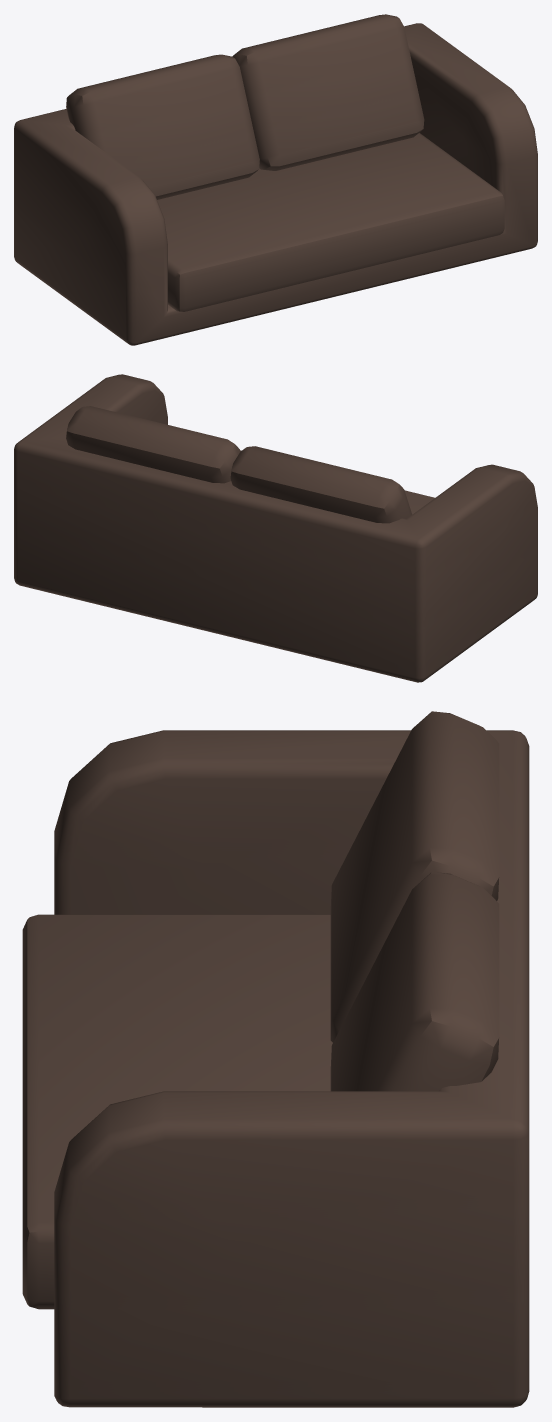
The model's file is couch.obj.
3 views of the same model, one above another, from view 1: azimuth 30°, elevation 25°; view 2: azimuth 150°, elevation 25°; view 3: azimuth 270°, elevation 25° (orthographic). The views are drawn at different scales.
Visible parts, largest first — view 1: couch_Plane.002; view 2: couch_Plane.002; view 3: couch_Plane.002.
Boxes of the visible parts, x1,y1,x2,y2 form: couch_Plane.002: [14, 14, 537, 345]; couch_Plane.002: [14, 374, 537, 682]; couch_Plane.002: [22, 711, 529, 1407].
Bounding box in the file's own units: 3 × 1.22 × 1.6.
Materials: 1 (1 with a texture image).
